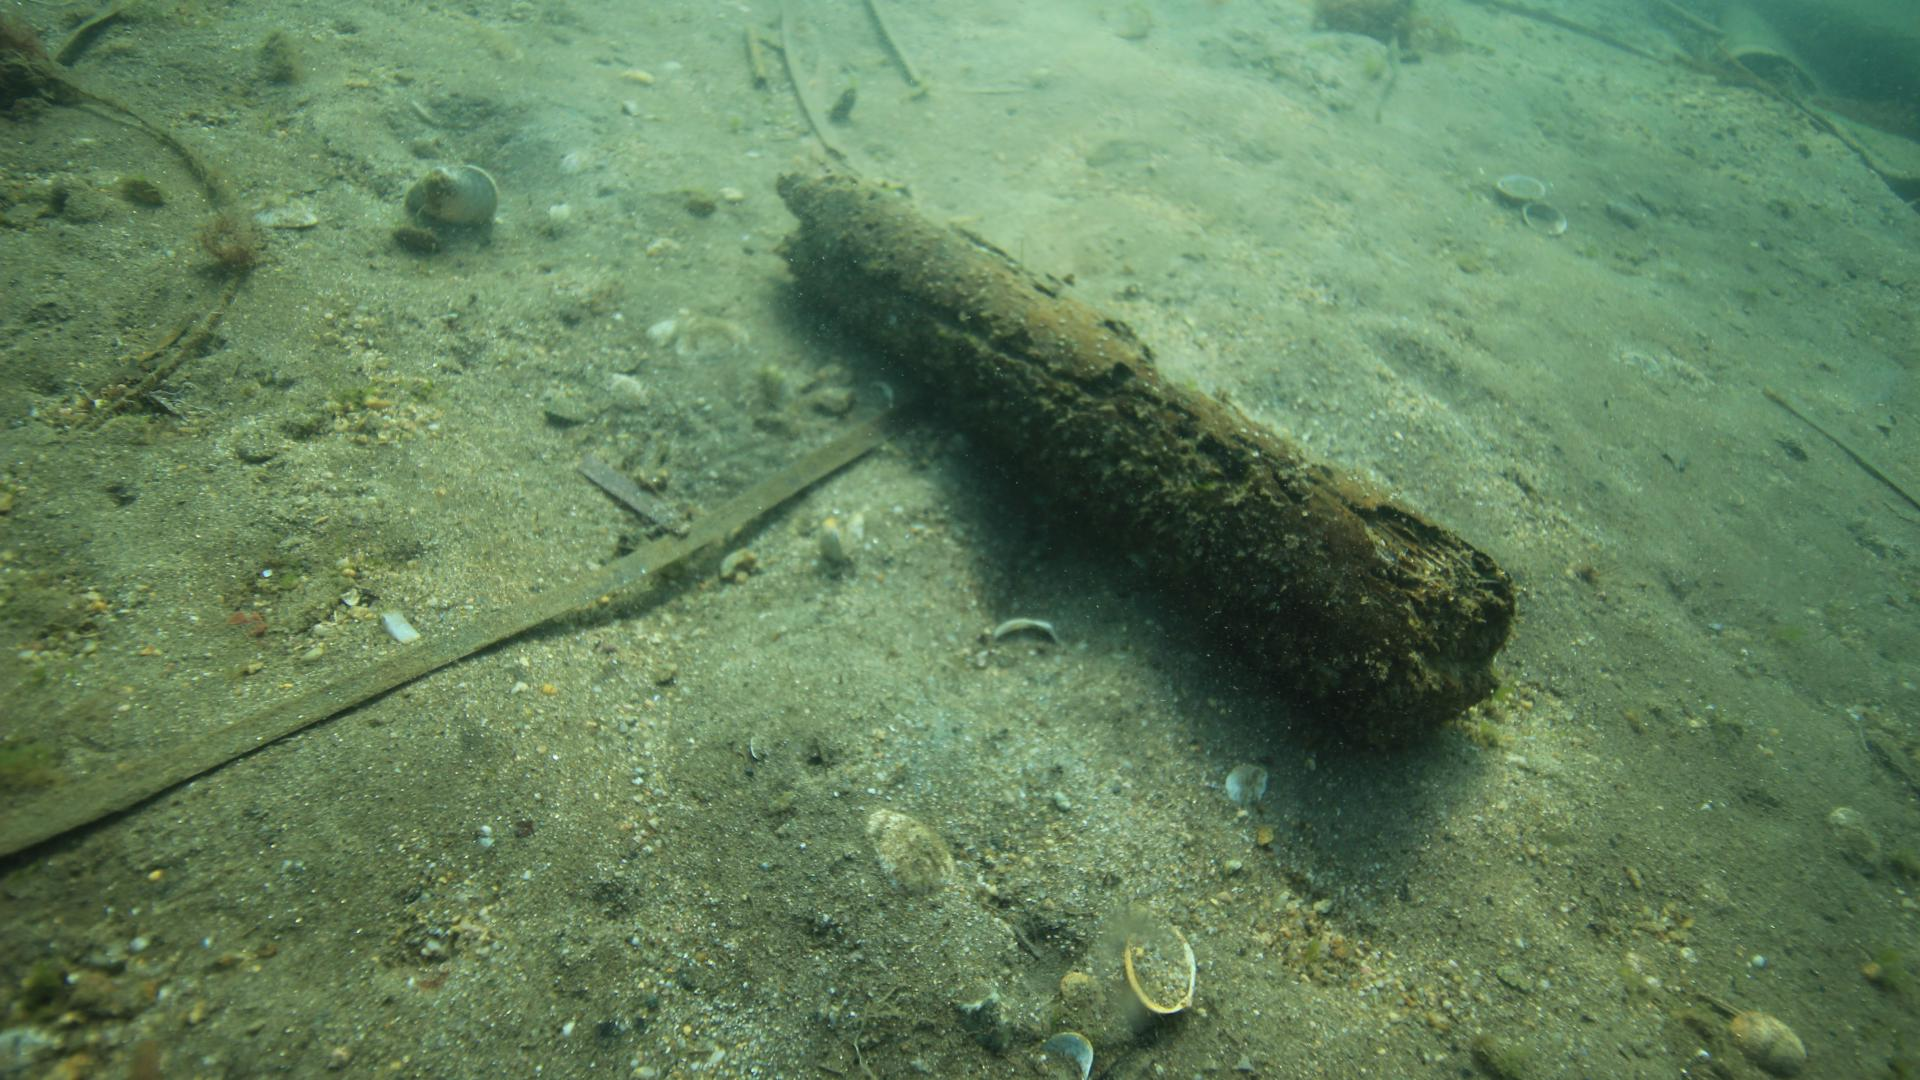wood: (773, 161, 1519, 752)
